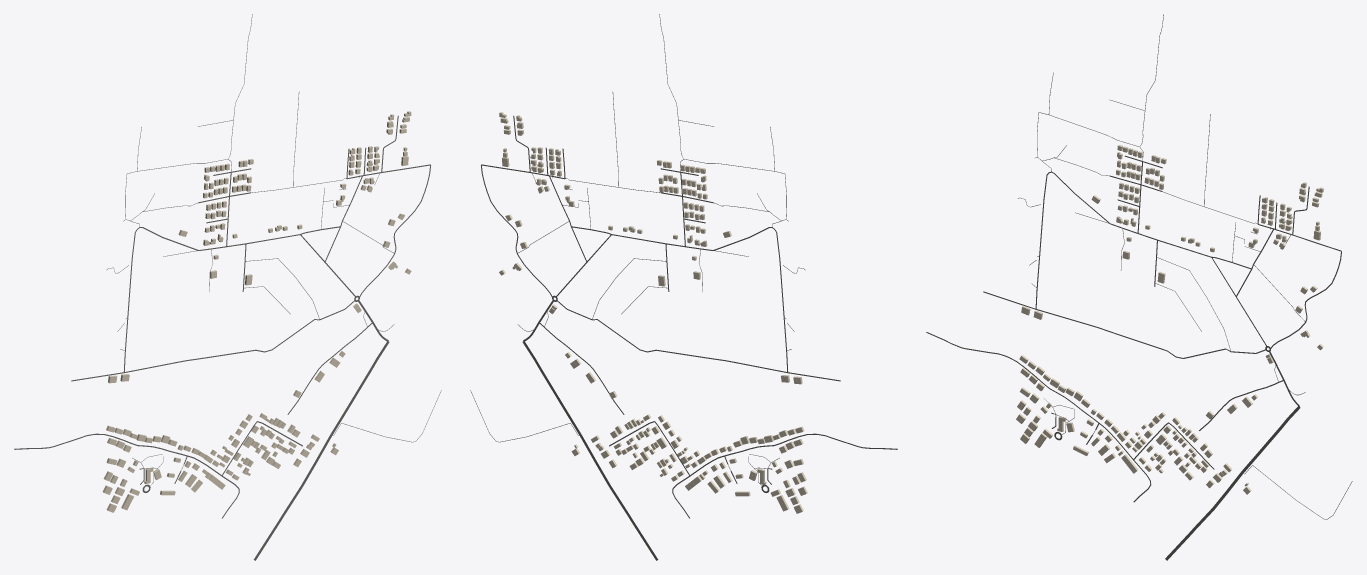
The model's file is historic-palestine-07_27_3490_3219.glb.
3 renders of one model, left to right at view 1: azimuth 30°, elevation 25°; view 2: azimuth 150°, elevation 25°; view 3: azimuth 330°, elevation 25°, orthographic.
Parts seen in each view (by area): view 1: Road טשרניחובסקי; view 2: Road טשרניחובסקי; view 3: Road טשרניחובסקי.
Part boxes in pixels (left/top/right/bottom): Road טשרניחובסקי: left=253, top=341, right=389, bottom=560; Road טשרניחובסקי: left=522, top=341, right=658, bottom=560; Road טשרניחובסקי: left=1165, top=406, right=1300, bottom=560.
Size of the model in its own units: 1314 by 1609 by 8.7.
